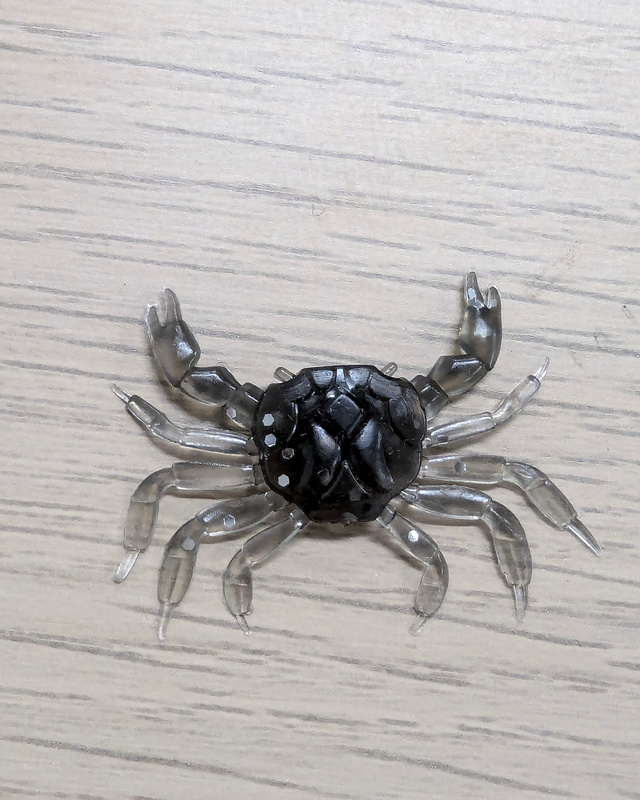crab1: (106, 266, 600, 638)
